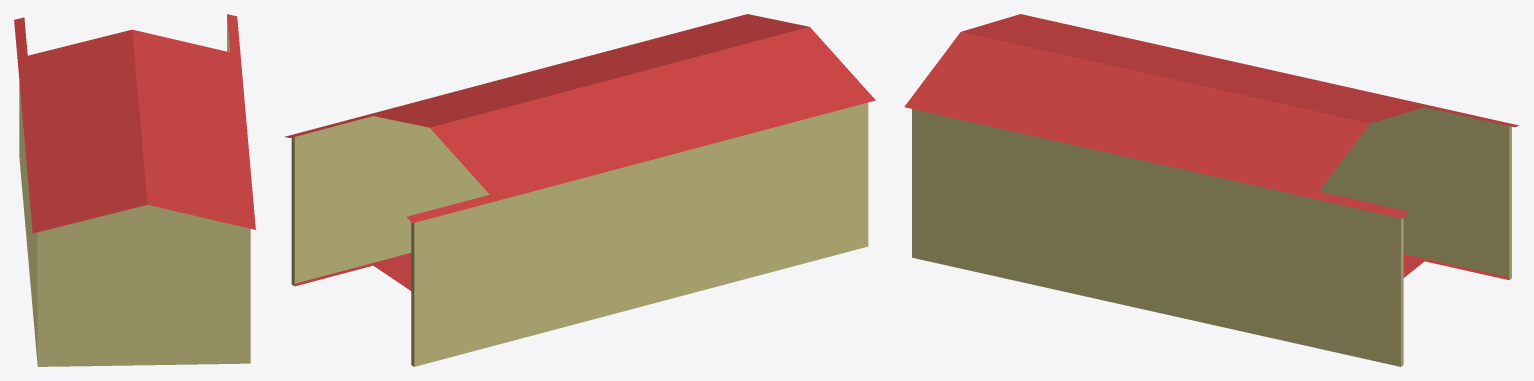
The picture shows the model from 3 angles, left to right: view 1: azimuth 30°, elevation 25°; view 2: azimuth 150°, elevation 25°; view 3: azimuth 270°, elevation 25°; orthographic projection. The views are drawn at different scales.
Size of the model in its own units: 21.02 by 26.71 by 8.69.
